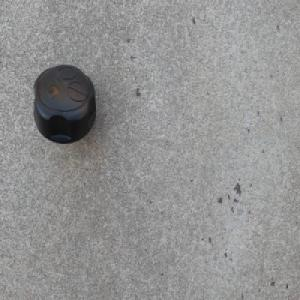FuelCap: (33, 63, 96, 146)
